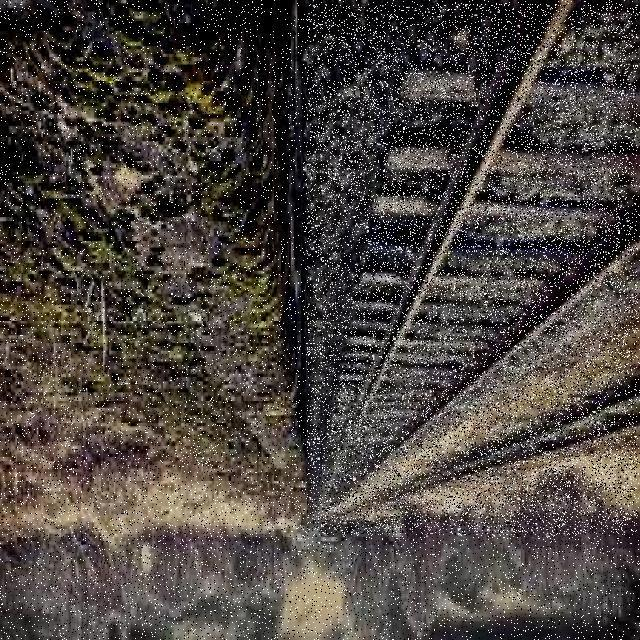rail: (307, 4, 637, 535)
